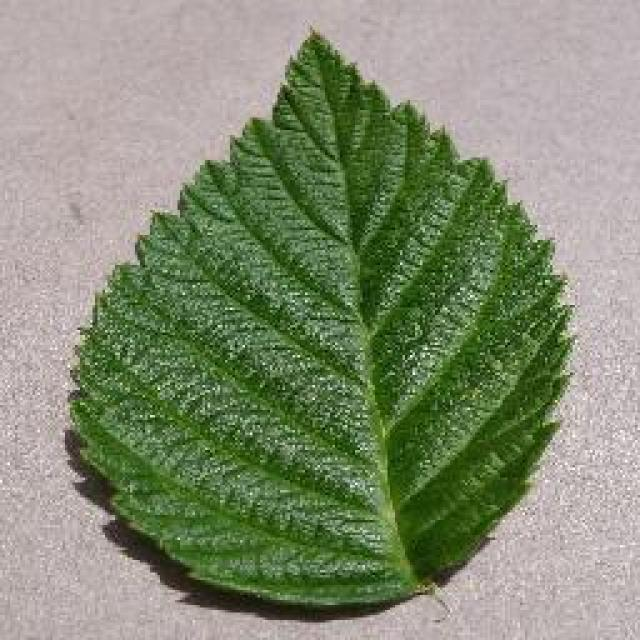Ras_healthy: (90, 100, 557, 572)
